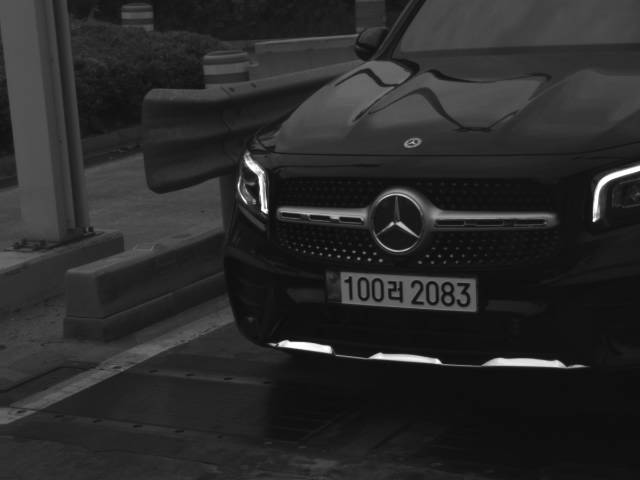car: (218, 1, 638, 393)
plate: (322, 269, 480, 314)
